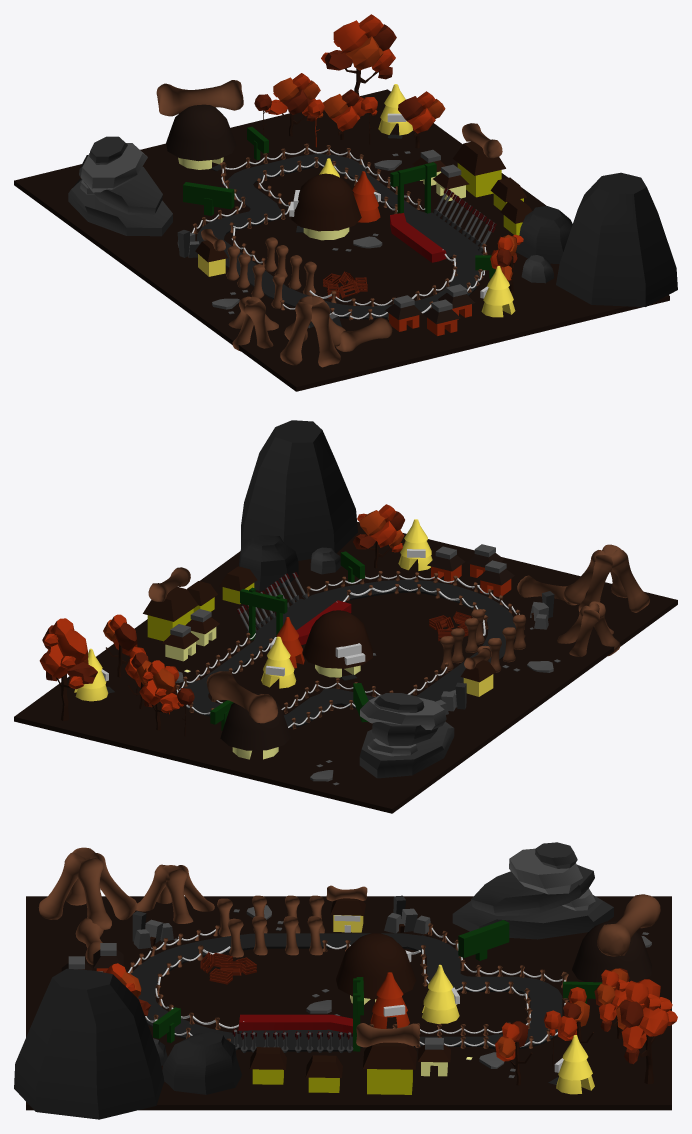
Rendered from PistaUganda.fbx.
3 views of the same model, one above another, from view 1: azimuth 30°, elevation 25°; view 2: azimuth 150°, elevation 25°; view 3: azimuth 270°, elevation 25° (orthographic). The views are drawn at different scales.
Visible parts, largest first — view 1: Mesh, Piedras, Props, chozas raras, Chozas hueso, Mesh (5), cuerdas, Terreno; view 2: Mesh, Piedras, Props, chozas raras, Chozas hueso, Mesh (5), cuerdas, Terreno; view 3: Mesh, Piedras, Props, Chozas hueso, chozas raras, Mesh (5), cuerdas, Terreno.
Boxes of the visible parts, x1=… form: Mesh: x1=14, y1=89, x2=669, y2=391; Piedras: x1=68, y1=136, x2=677, y2=328; Props: x1=183, y1=126, x2=495, y2=335; chozas raras: x1=166, y1=84, x2=515, y2=317; Chozas hueso: x1=156, y1=80, x2=531, y2=367; Mesh (5): x1=254, y1=14, x2=523, y2=294; cuerdas: x1=192, y1=143, x2=487, y2=320; Terreno: x1=212, y1=151, x2=496, y2=314; Mesh: x1=14, y1=521, x2=677, y2=813; Piedras: x1=239, y1=420, x2=554, y2=778; Props: x1=162, y1=544, x2=515, y2=730; chozas raras: x1=74, y1=519, x2=526, y2=759; Chozas hueso: x1=143, y1=544, x2=649, y2=723; Mesh (5): x1=39, y1=504, x2=404, y2=736; cuerdas: x1=176, y1=571, x2=525, y2=729; Terreno: x1=175, y1=572, x2=560, y2=785; Mesh: x1=26, y1=896, x2=671, y2=1110; Piedras: x1=14, y1=842, x2=613, y2=1119; Props: x1=61, y1=920, x2=602, y2=1076; Chozas hueso: x1=38, y1=847, x2=660, y2=1094; chozas raras: x1=217, y1=895, x2=651, y2=1094; Mesh (5): x1=103, y1=963, x2=677, y2=1085; cuerdas: x1=128, y1=923, x2=568, y2=1048; Terreno: x1=200, y1=905, x2=651, y2=1078.
Bounding box in the file's own units: 10406 × 2858 × 13021.
